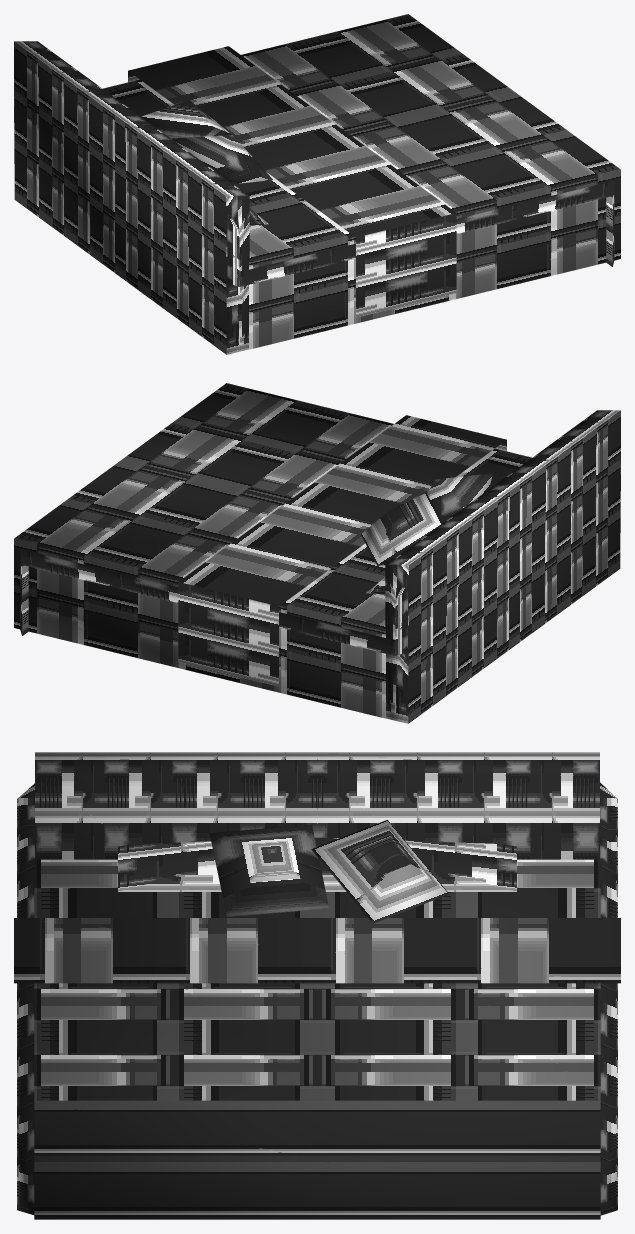
The model's file is 3105IMRL08_04.gltf.
3 renders of one model, top to bottom at view 1: azimuth 30°, elevation 25°; view 2: azimuth 150°, elevation 25°; view 3: azimuth 270°, elevation 25°, orthographic. The views are drawn at different scales.
Visible parts, largest first — view 1: 3105IMRL08_04; view 2: 3105IMRL08_04; view 3: 3105IMRL08_04.
Part boxes in pixels (x1,y1,x2,y2): 3105IMRL08_04: (14,14,620,354); 3105IMRL08_04: (14,383,620,723); 3105IMRL08_04: (14,752,620,1219).
Bounding box in the file's own units: 1.94 × 0.7454 × 1.94.
Materials: 2 (2 with a texture image).
